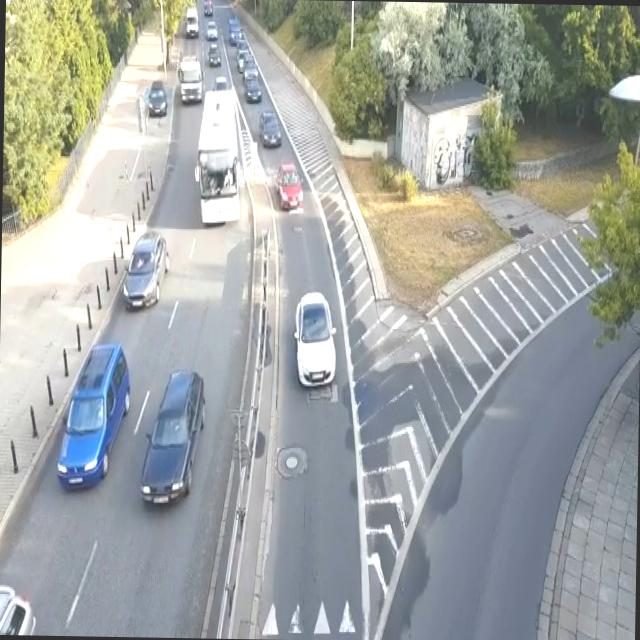bus: (196, 85, 244, 229)
car: (59, 342, 135, 492), (138, 368, 204, 508), (290, 290, 338, 390), (120, 231, 168, 311), (0, 576, 42, 635), (272, 162, 304, 210), (258, 108, 282, 152), (147, 76, 169, 118), (240, 51, 260, 84), (242, 74, 262, 104), (226, 15, 243, 45), (212, 72, 229, 100), (184, 6, 198, 38), (234, 44, 250, 72), (206, 42, 220, 68), (205, 19, 218, 41), (202, 0, 213, 17)
truck: (176, 56, 203, 103)
